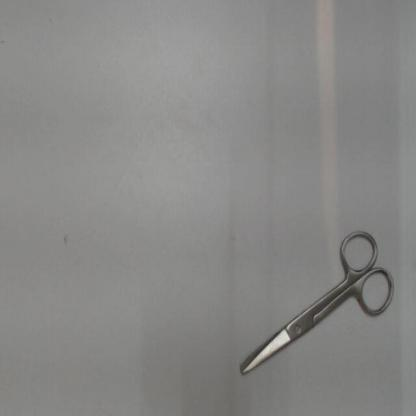Dressing Scissors: (229, 217, 401, 387)
